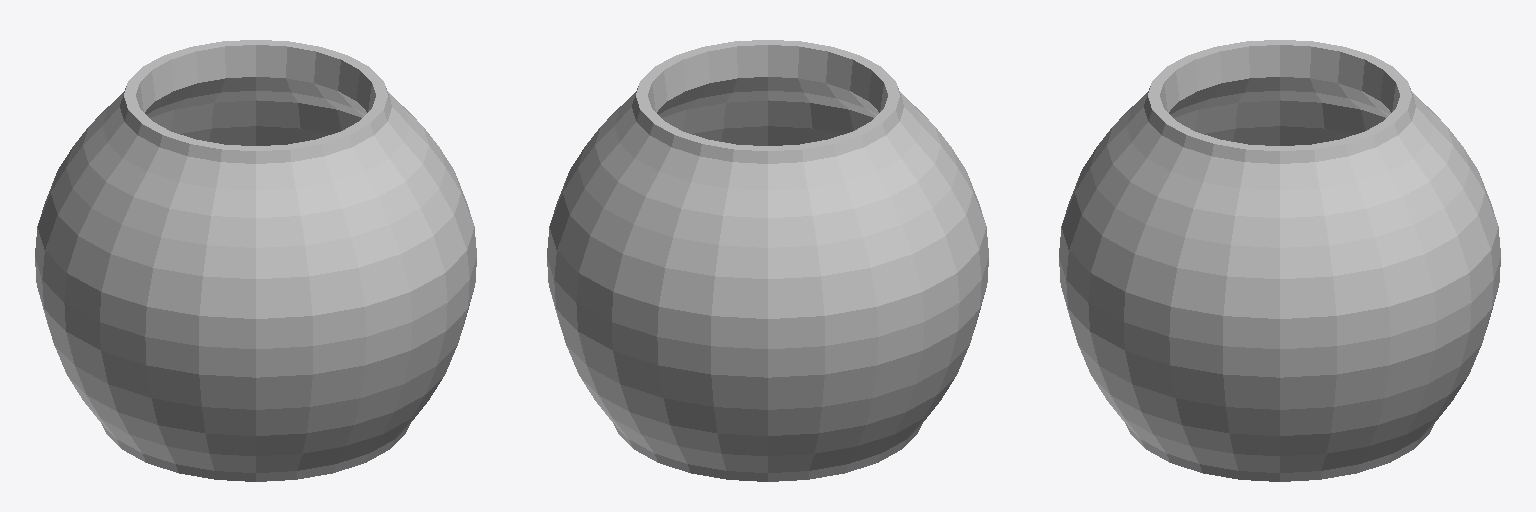
File: pot1.obj
3 views of the same model, side by side, from view 1: azimuth 30°, elevation 25°; view 2: azimuth 150°, elevation 25°; view 3: azimuth 270°, elevation 25° (orthographic).
Parts seen in each view (by area): view 1: pot_Sphere; view 2: pot_Sphere; view 3: pot_Sphere.
Boxes of the visible parts, x1,y1,x2,y2 form: pot_Sphere: [35, 40, 476, 481]; pot_Sphere: [547, 40, 988, 481]; pot_Sphere: [1059, 40, 1500, 481].
Bounding box in the file's own units: 2.29 × 1.84 × 2.29.